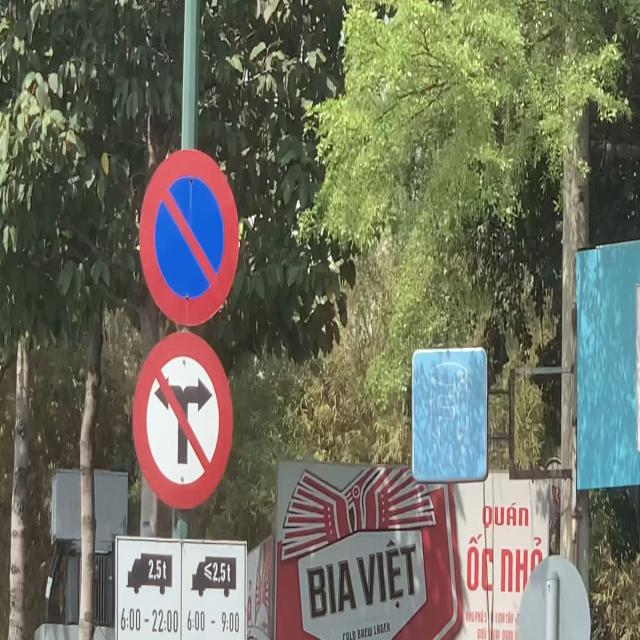Cam con lai: (127, 332, 236, 519)
Cam do: (137, 148, 244, 328)
